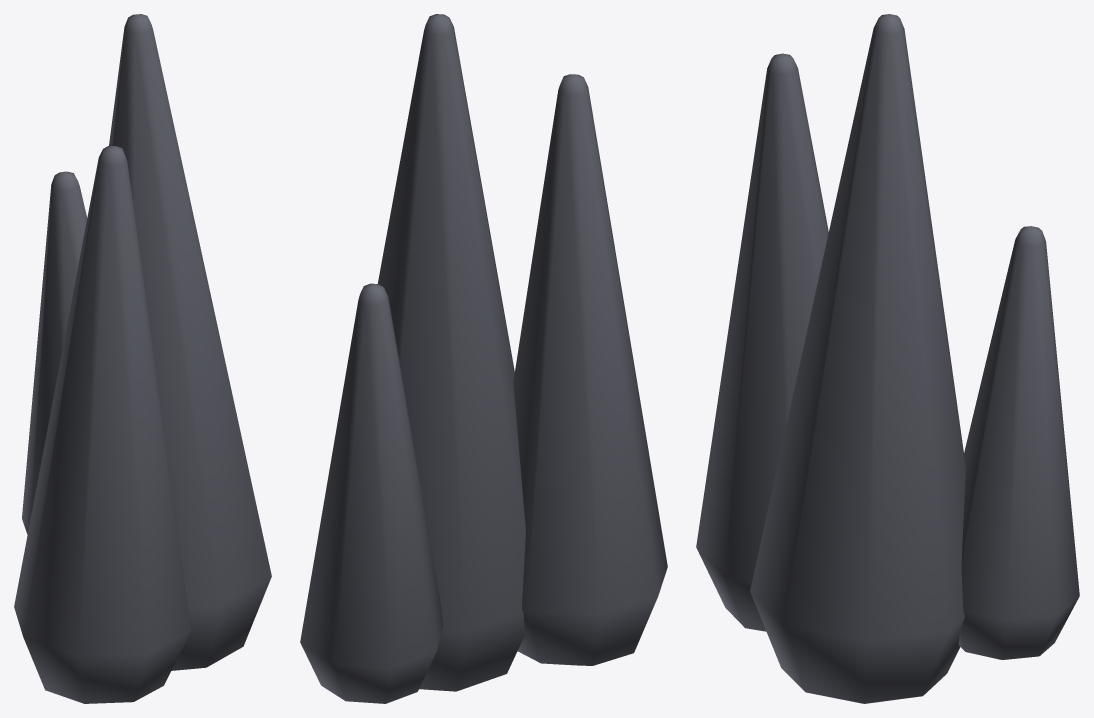
The model's file is prop_stalagfalse_e616.glb.
3 renders of one model, left to right at view 1: azimuth 30°, elevation 25°; view 2: azimuth 150°, elevation 25°; view 3: azimuth 270°, elevation 25°, orthographic. The views are drawn at different scales.
Parts seen in each view (by area): view 1: prop_stalagfalse_e616; view 2: prop_stalagfalse_e616; view 3: prop_stalagfalse_e616.
Part boxes in pixels (x1,y1,x2,y2): prop_stalagfalse_e616: (14,14,271,703); prop_stalagfalse_e616: (300,14,667,703); prop_stalagfalse_e616: (696,14,1079,703).
Bounding box in the file's own units: 0.4718 × 1.07 × 0.5495.
1 material, 1 textured.
